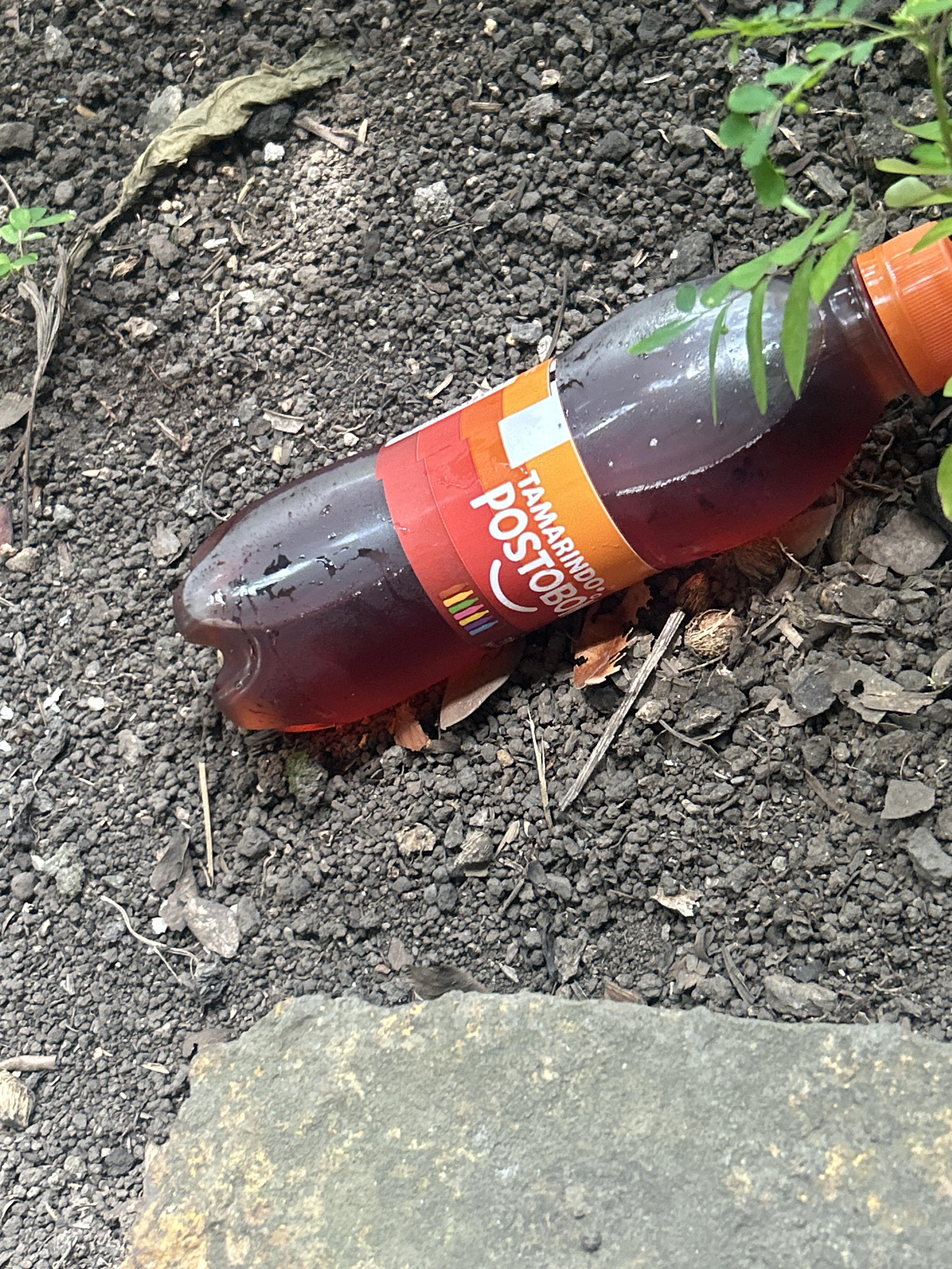tamarindo: (174, 226, 952, 731)
